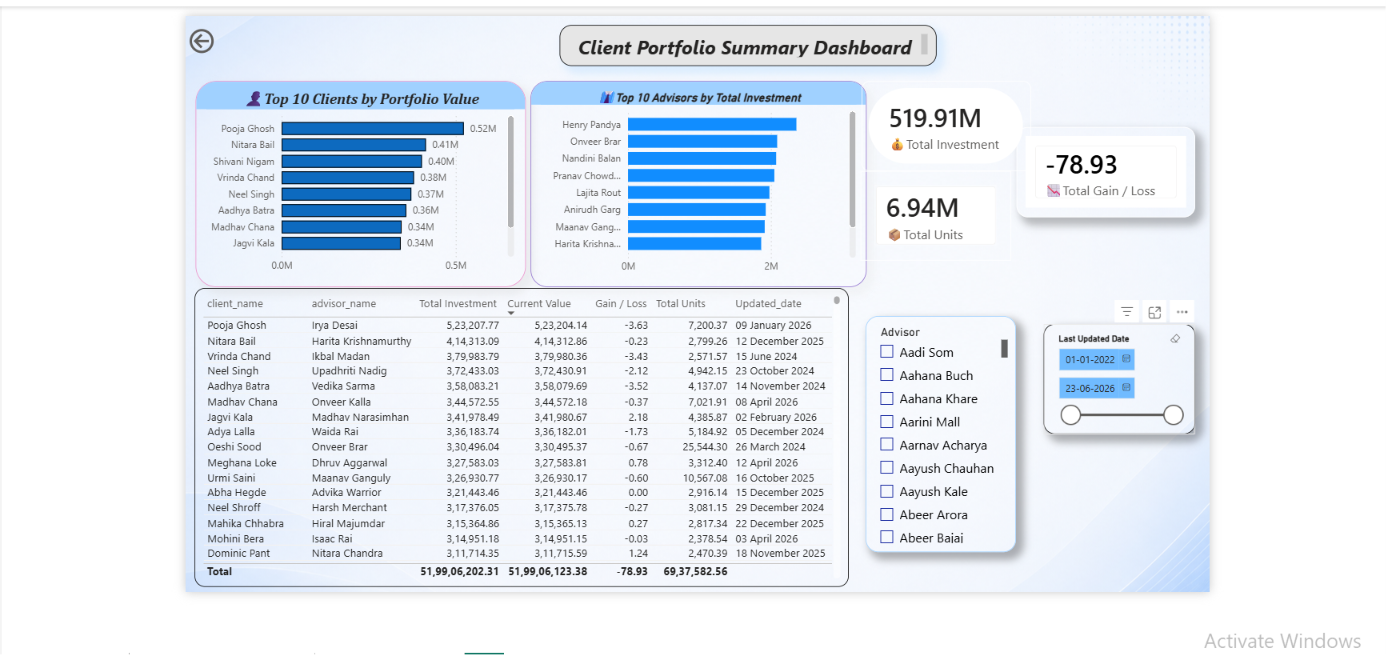

What the dashboard file says about the page in this screenshot:
{"tool":"powerbi","page":{"name":"Client Portfolio Dashboard","canvas":[1280,720],"ordinal":0},"visuals":[{"type":"textbox","box":[467.3,11,471,51.1],"z":0},{"type":"clusteredBarChart","title":"👤Top 10 Clients by Portfolio Value","fields":{"Category":["client_portfolio_summary_mart.client_name"],"Y":["Sum(client_portfolio_summary_mart.current_value)"]},"box":[12.2,81.5,412.6,258],"z":1000},{"type":"clusteredBarChart","title":"👔Top 10 Advisors by Total Investment","fields":{"Category":["client_portfolio_summary_mart.advisor_name"],"Y":["Sum(client_portfolio_summary_mart.total_investment)"]},"box":[430.8,81.5,419.9,258],"z":2000},{"type":"cardVisual","fields":{"Data":["Sum(client_portfolio_summary_mart.gain_loss)"]},"box":[1038.4,138.4,223.3,112.8],"z":3000},{"type":"cardVisual","title":"Total Investment","fields":{"Data":["Sum(client_portfolio_summary_mart.total_investment)"]},"box":[845.4,81.4,211.6,112.8],"z":4000},{"type":"cardVisual","fields":{"Data":["Sum(client_portfolio_summary_mart.total_units)"]},"box":[844.2,194.2,188.4,111.6],"z":5000},{"type":"tableEx","fields":{"Values":["client_portfolio_summary_mart.client_name","client_portfolio_summary_mart.advisor_name","Sum(client_portfolio_summary_mart.total_investment)","Sum(client_portfolio_summary_mart.current_value)","Sum(client_portfolio_summary_mart.gain_loss)","Sum(client_portfolio_summary_mart.total_units)","client_portfolio_summary_mart.last_updated_date"]},"box":[11.6,339.5,817.4,373.3],"z":6000},{"type":"actionButton","box":[0,11,99.8,40.2],"z":7000},{"type":"slicer","fields":{"Values":["client_portfolio_summary_mart.advisor_name"]},"box":[850,374.4,188.4,295.3],"z":8000},{"type":"slicer","title":"Last Updated Date","fields":{"Values":["client_portfolio_summary_mart.last_updated_date"]},"box":[1072.1,384.9,189.5,137.2],"z":9000}]}

Visuals, with their boxes on the page's 1280x720 design canvas (x1, y1, x2, y2). These are canvas units, not pixel positions in the 1386x655 screenshot, which may show the page scaled, cropped or inside an application window:
textbox: select_region(467, 11, 938, 62)
"👤Top 10 Clients by Portfolio Value" clusteredBarChart: select_region(12, 82, 425, 340)
"👔Top 10 Advisors by Total Investment" clusteredBarChart: select_region(431, 82, 851, 340)
cardVisual - Sum(client_portfolio_summary_mart.gain_loss): select_region(1038, 138, 1262, 251)
"Total Investment" cardVisual: select_region(845, 81, 1057, 194)
cardVisual - Sum(client_portfolio_summary_mart.total_units): select_region(844, 194, 1033, 306)
tableEx - client_portfolio_summary_mart.client_name x client_portfolio_summary_mart.advisor_name: select_region(12, 340, 829, 713)
actionButton: select_region(0, 11, 100, 51)
slicer - client_portfolio_summary_mart.advisor_name: select_region(850, 374, 1038, 670)
"Last Updated Date" slicer: select_region(1072, 385, 1262, 522)
